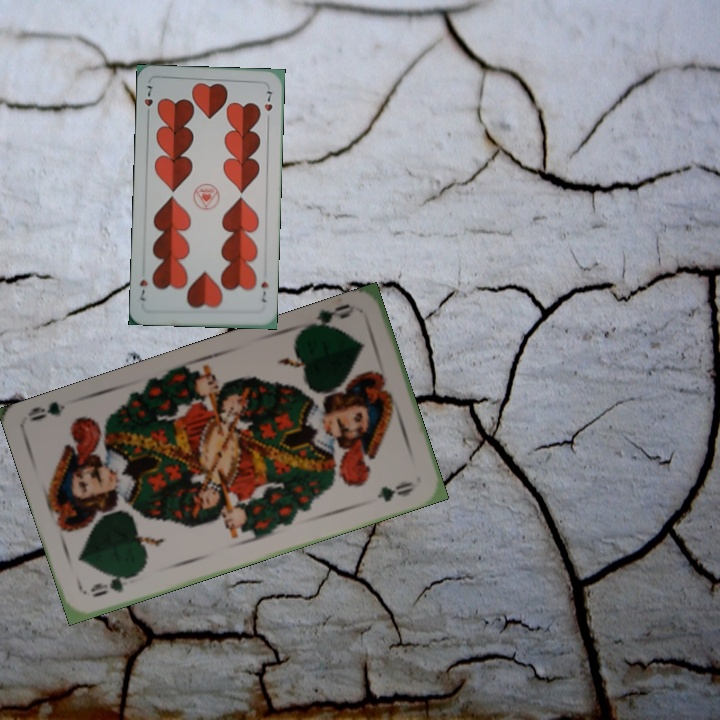GO: (301, 300, 357, 332), (86, 569, 141, 600)
H7: (140, 81, 155, 120), (257, 278, 271, 305)
